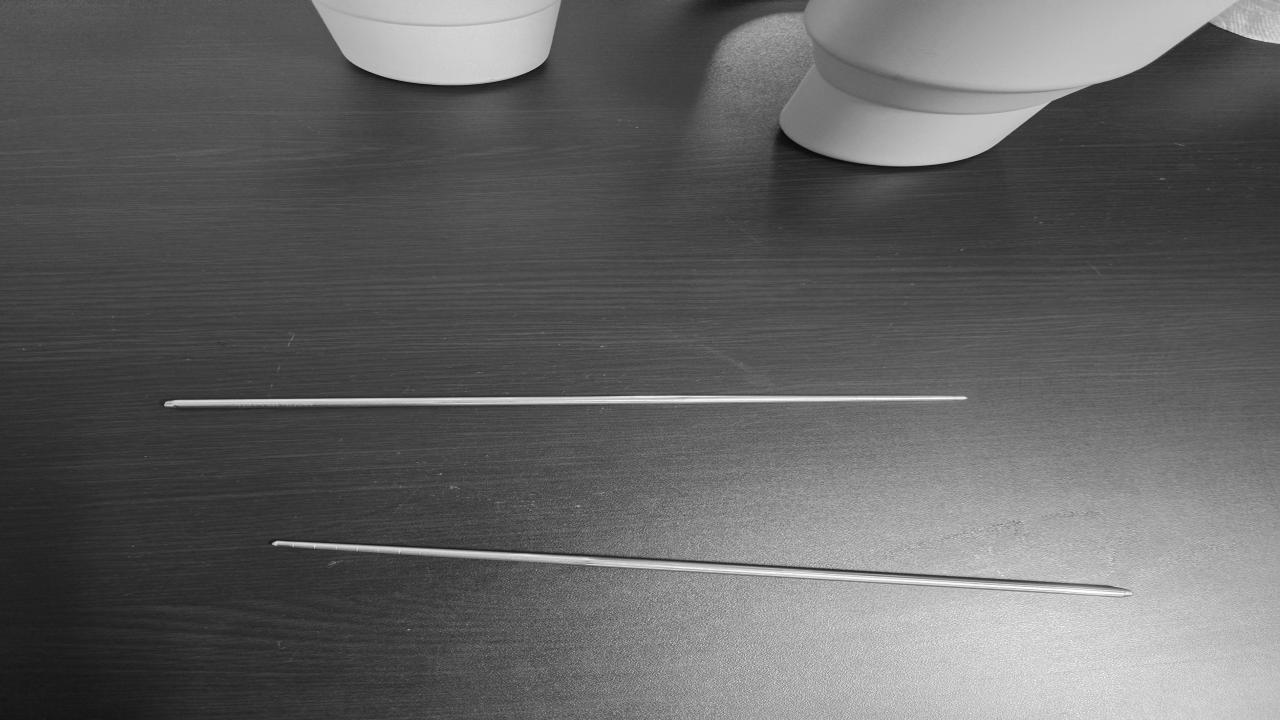chopstick: (268, 539, 1134, 599), (168, 396, 970, 408)
